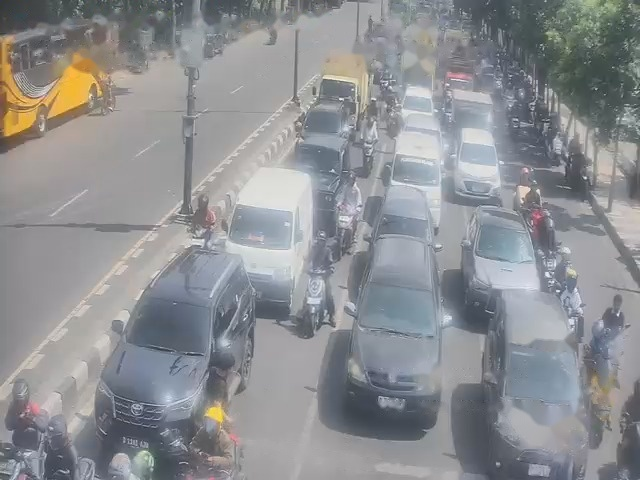Bis: (0, 32, 99, 155)
Mobil: (117, 243, 252, 449), (354, 244, 441, 407), (226, 168, 308, 283), (465, 210, 539, 297), (370, 185, 435, 248), (459, 129, 501, 206)
Motor: (582, 320, 629, 447), (160, 429, 245, 479), (0, 442, 44, 479), (616, 413, 639, 479), (304, 265, 326, 330), (337, 203, 358, 256), (0, 445, 31, 480), (335, 202, 355, 250), (188, 226, 225, 250), (538, 249, 556, 292), (563, 305, 583, 342), (542, 242, 556, 291), (188, 226, 213, 249), (100, 77, 115, 115), (386, 105, 401, 138), (577, 165, 590, 200), (362, 141, 373, 176), (509, 113, 520, 136), (528, 100, 536, 125), (268, 26, 277, 44), (535, 186, 541, 200)
